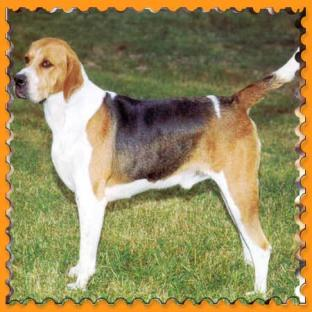Animal: (13, 38, 299, 294)
